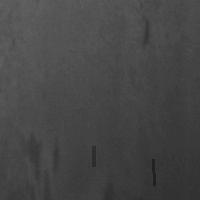inclusion: (21, 130, 64, 197), (136, 11, 155, 53), (151, 157, 156, 187), (91, 144, 95, 168)
